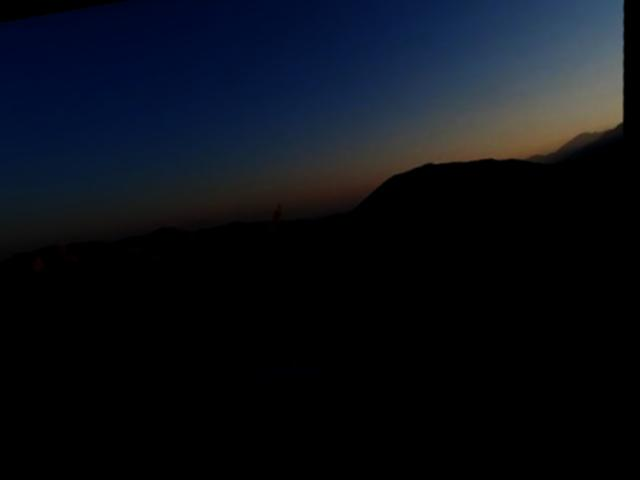iha: (226, 357, 347, 402)
